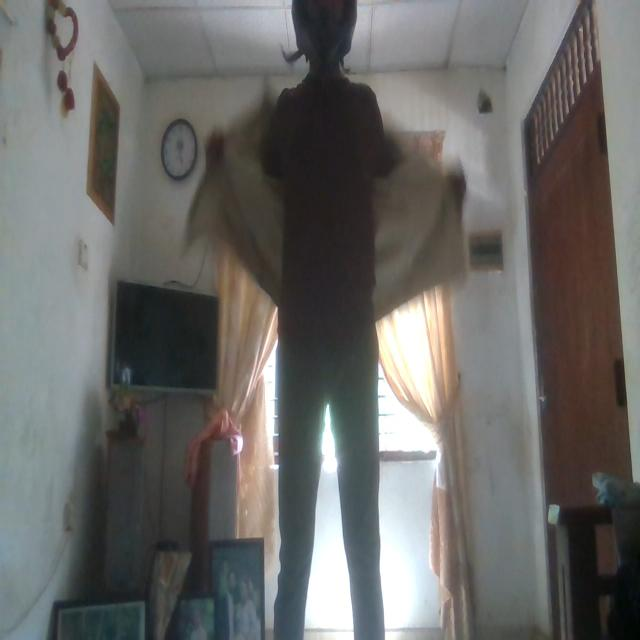Helmet_Wearer: (290, 0, 358, 79)
Person: (262, 1, 391, 640)
